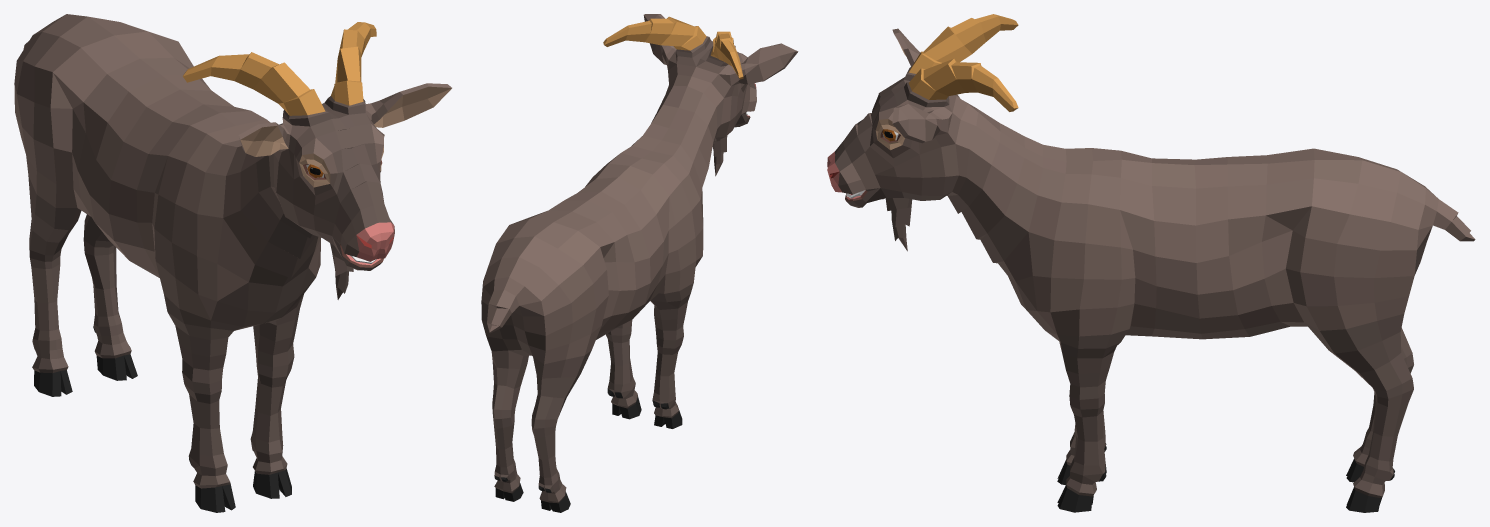
The model's file is LowPoly_Goat_Male_3.obj.
3 renders of one model, left to right at view 1: azimuth 30°, elevation 25°; view 2: azimuth 150°, elevation 25°; view 3: azimuth 270°, elevation 25°, orthographic. The views are drawn at different scales.
Visible parts, largest first — view 1: Goat_Male_3_Cube.011; view 2: Goat_Male_3_Cube.011; view 3: Goat_Male_3_Cube.011.
Part boxes in pixels (box(x1,y1,x2,y2)): Goat_Male_3_Cube.011: box(14, 14, 451, 512); Goat_Male_3_Cube.011: box(481, 14, 798, 512); Goat_Male_3_Cube.011: box(827, 14, 1475, 512).
Bounding box in the file's own units: 0.4074 × 0.9092 × 1.19.
